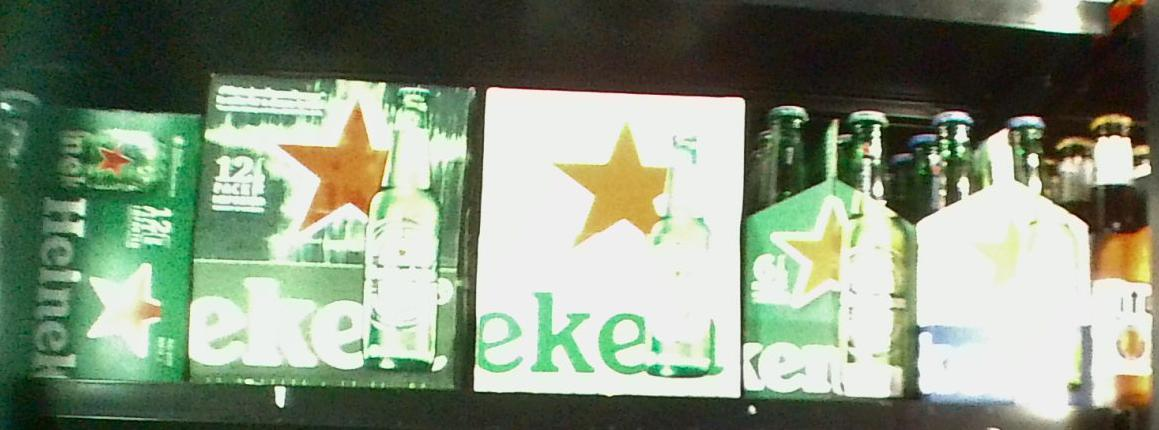bottle: (198, 68, 475, 389), (484, 82, 742, 400), (746, 100, 917, 400), (920, 110, 1093, 399), (17, 106, 195, 381)
